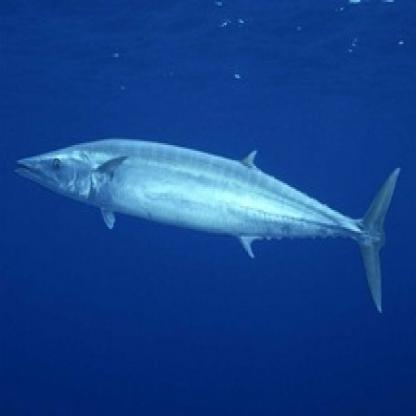tuna: (10, 127, 404, 323)
